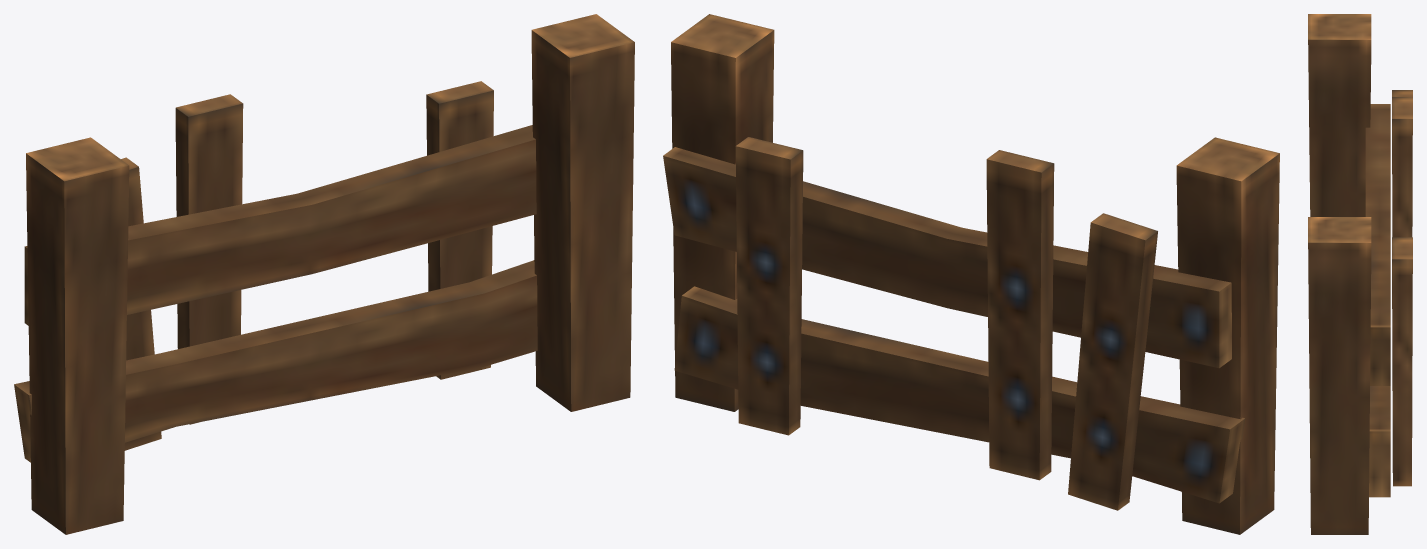
Rendered from b_fence_1.FBX.
3 renders of one model, left to right at view 1: azimuth 30°, elevation 25°; view 2: azimuth 150°, elevation 25°; view 3: azimuth 270°, elevation 25°, orthographic. The views are drawn at different scales.
Parts seen in each view (by area): view 1: Box005; view 2: Box005; view 3: Box005.
Boxes of the visible parts, left/top/right/bottom form: Box005: left=14, top=14, right=634, bottom=534; Box005: left=663, top=14, right=1279, bottom=534; Box005: left=1308, top=14, right=1412, bottom=534.
Size of the model in its own units: 39.66 by 7.66 by 23.64.
